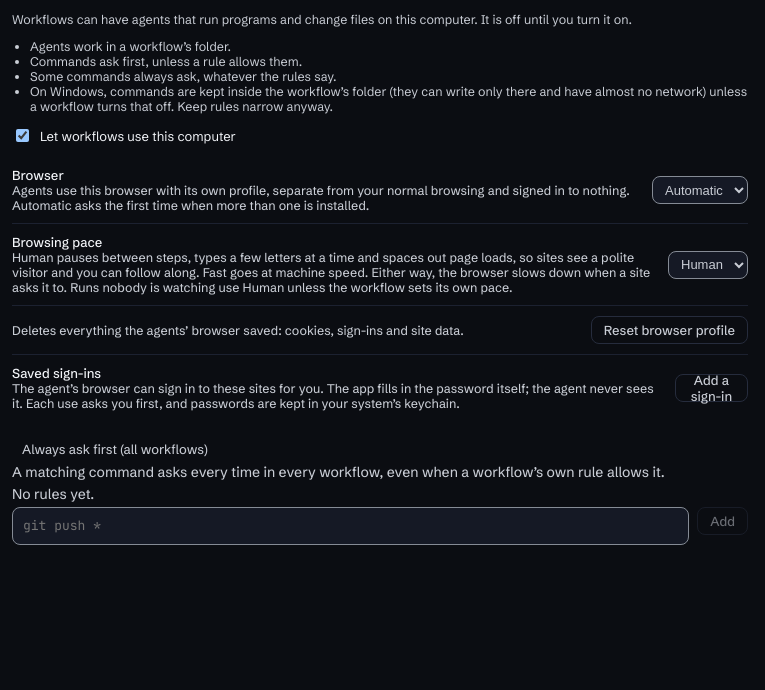
ComputerSection › shows the backend error when a save is refused, and keeps the typed rule
In the field named "New rule for": (351, 526) x1=12 y1=507 x2=689 y2=544, type "x"
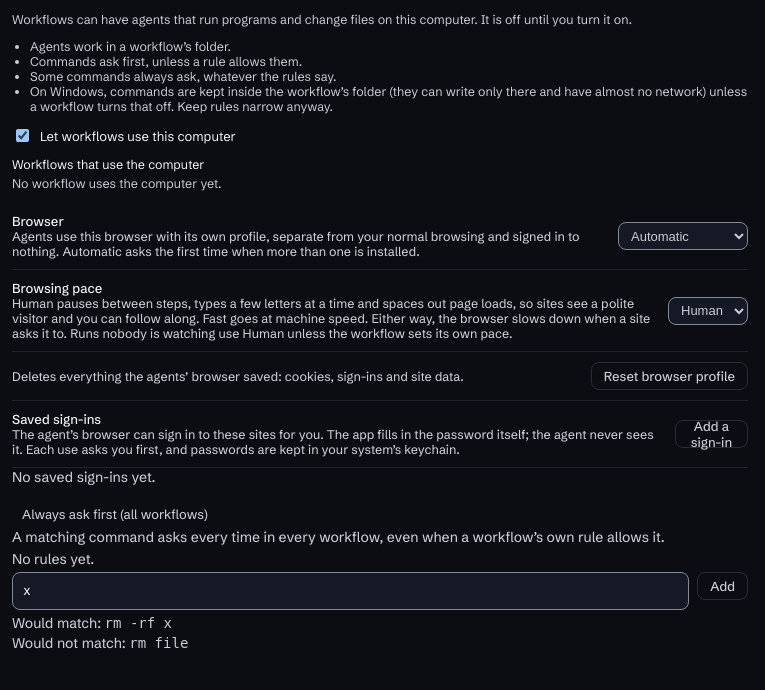
Check: the text "rm -rf x" is shown, box x1=105 y1=614 x2=172 y2=630
Click the button with aria-label "Add a rule to": (723, 586) x1=697 y1=572 x2=748 y2=600
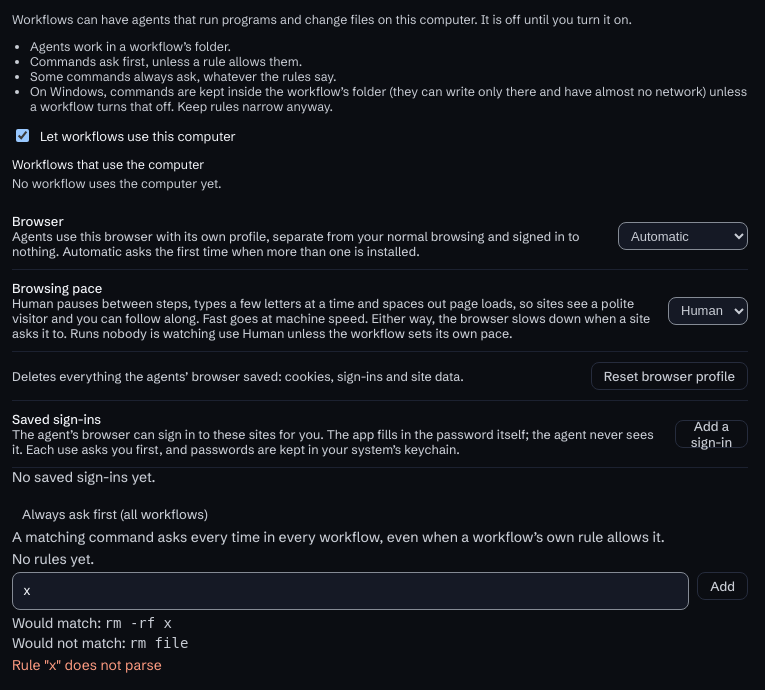
Check: the text "Rule \"x\" does not parse" is shown, box x1=12 y1=656 x2=162 y2=674
